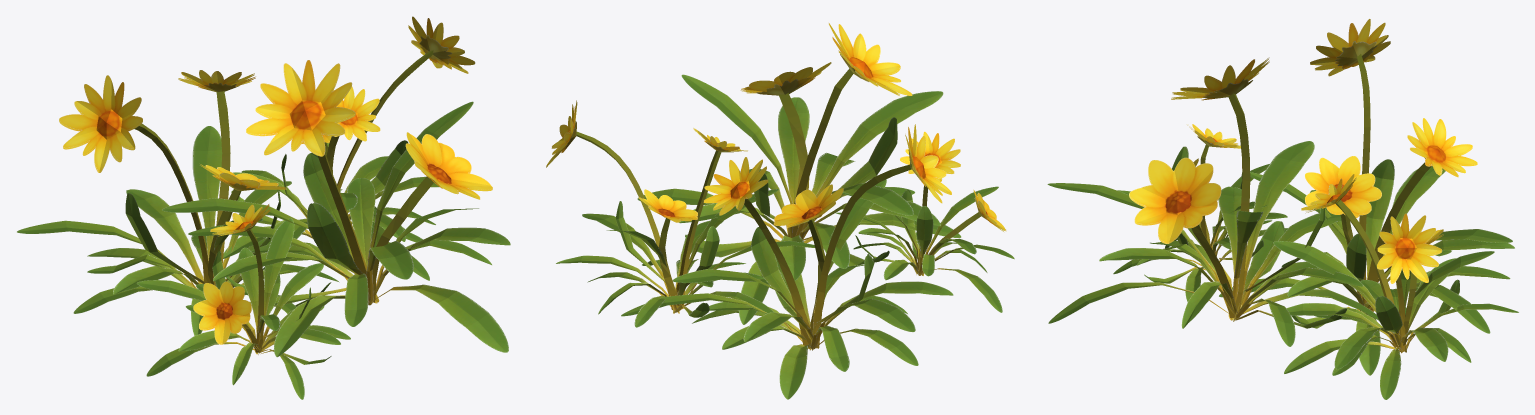
Rendered from P_Flowerjinzhanju_03.obj.
The picture shows the model from 3 angles, left to right: view 1: azimuth 30°, elevation 25°; view 2: azimuth 150°, elevation 25°; view 3: azimuth 270°, elevation 25°; orthographic projection. The views are drawn at different scales.
Size of the model in its own units: 0.8788 by 0.577 by 0.8892.
1 material, 1 textured.
